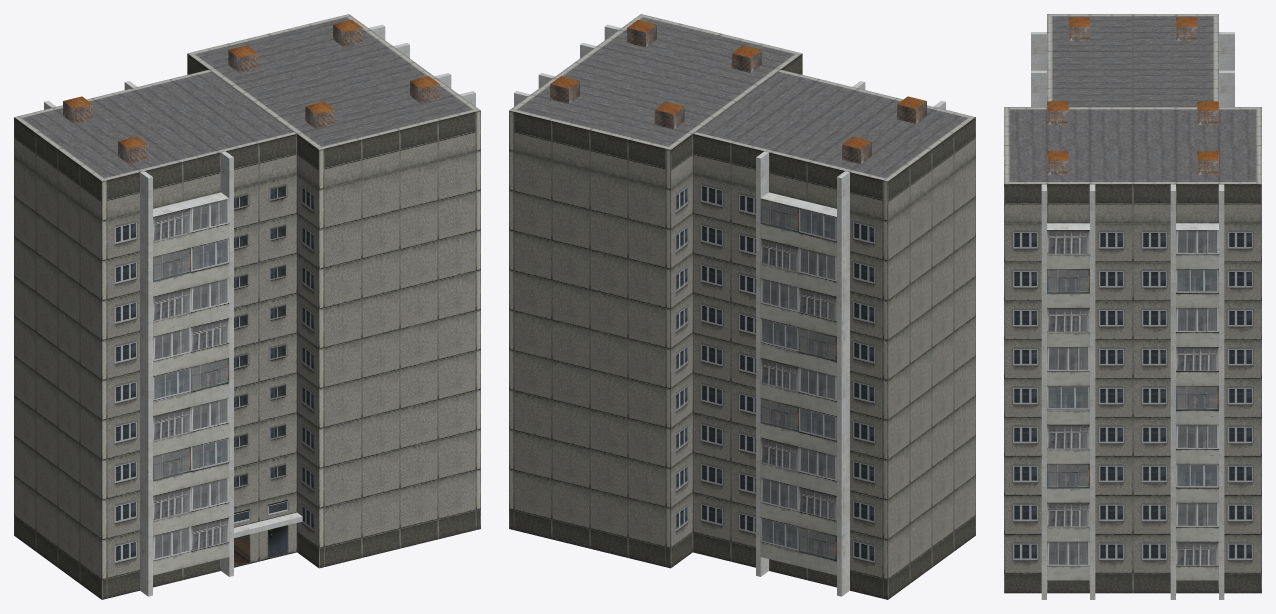
File: buildingwithdoor.fbx
3 views of the same model, side by side, from view 1: azimuth 30°, elevation 25°; view 2: azimuth 150°, elevation 25°; view 3: azimuth 270°, elevation 25° (orthographic). The views are drawn at different scales.
Visible parts, largest first — view 1: rus_build_9et_01; view 2: rus_build_9et_01; view 3: rus_build_9et_01.
Part boxes in pixels (x1=…): rus_build_9et_01: x1=14, y1=14, x2=480, y2=599; rus_build_9et_01: x1=509, y1=14, x2=975, y2=599; rus_build_9et_01: x1=1004, y1=14, x2=1261, y2=599.
Size of the model in its own units: 7800 by 8800 by 4800.
Materials: 1 (1 with a texture image).
